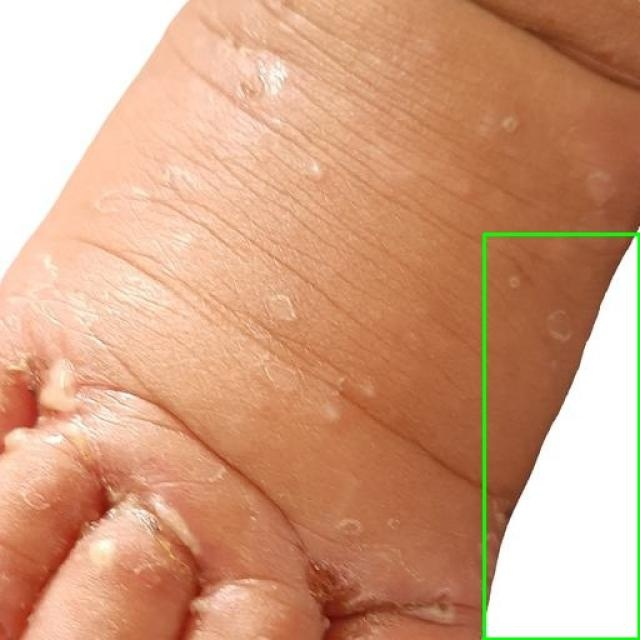Scabies: (484, 234, 639, 639)
